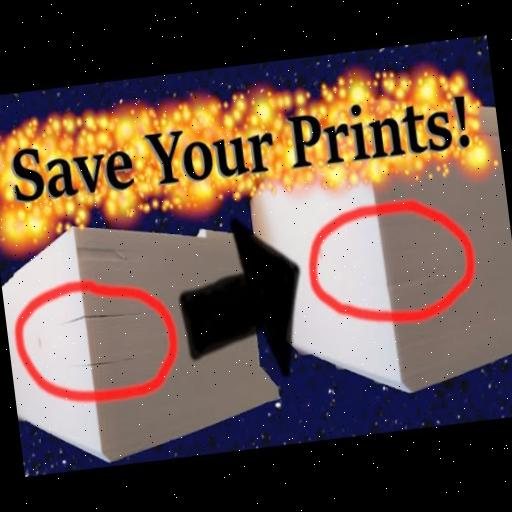cracks: (64, 298, 153, 382), (363, 260, 425, 305)
